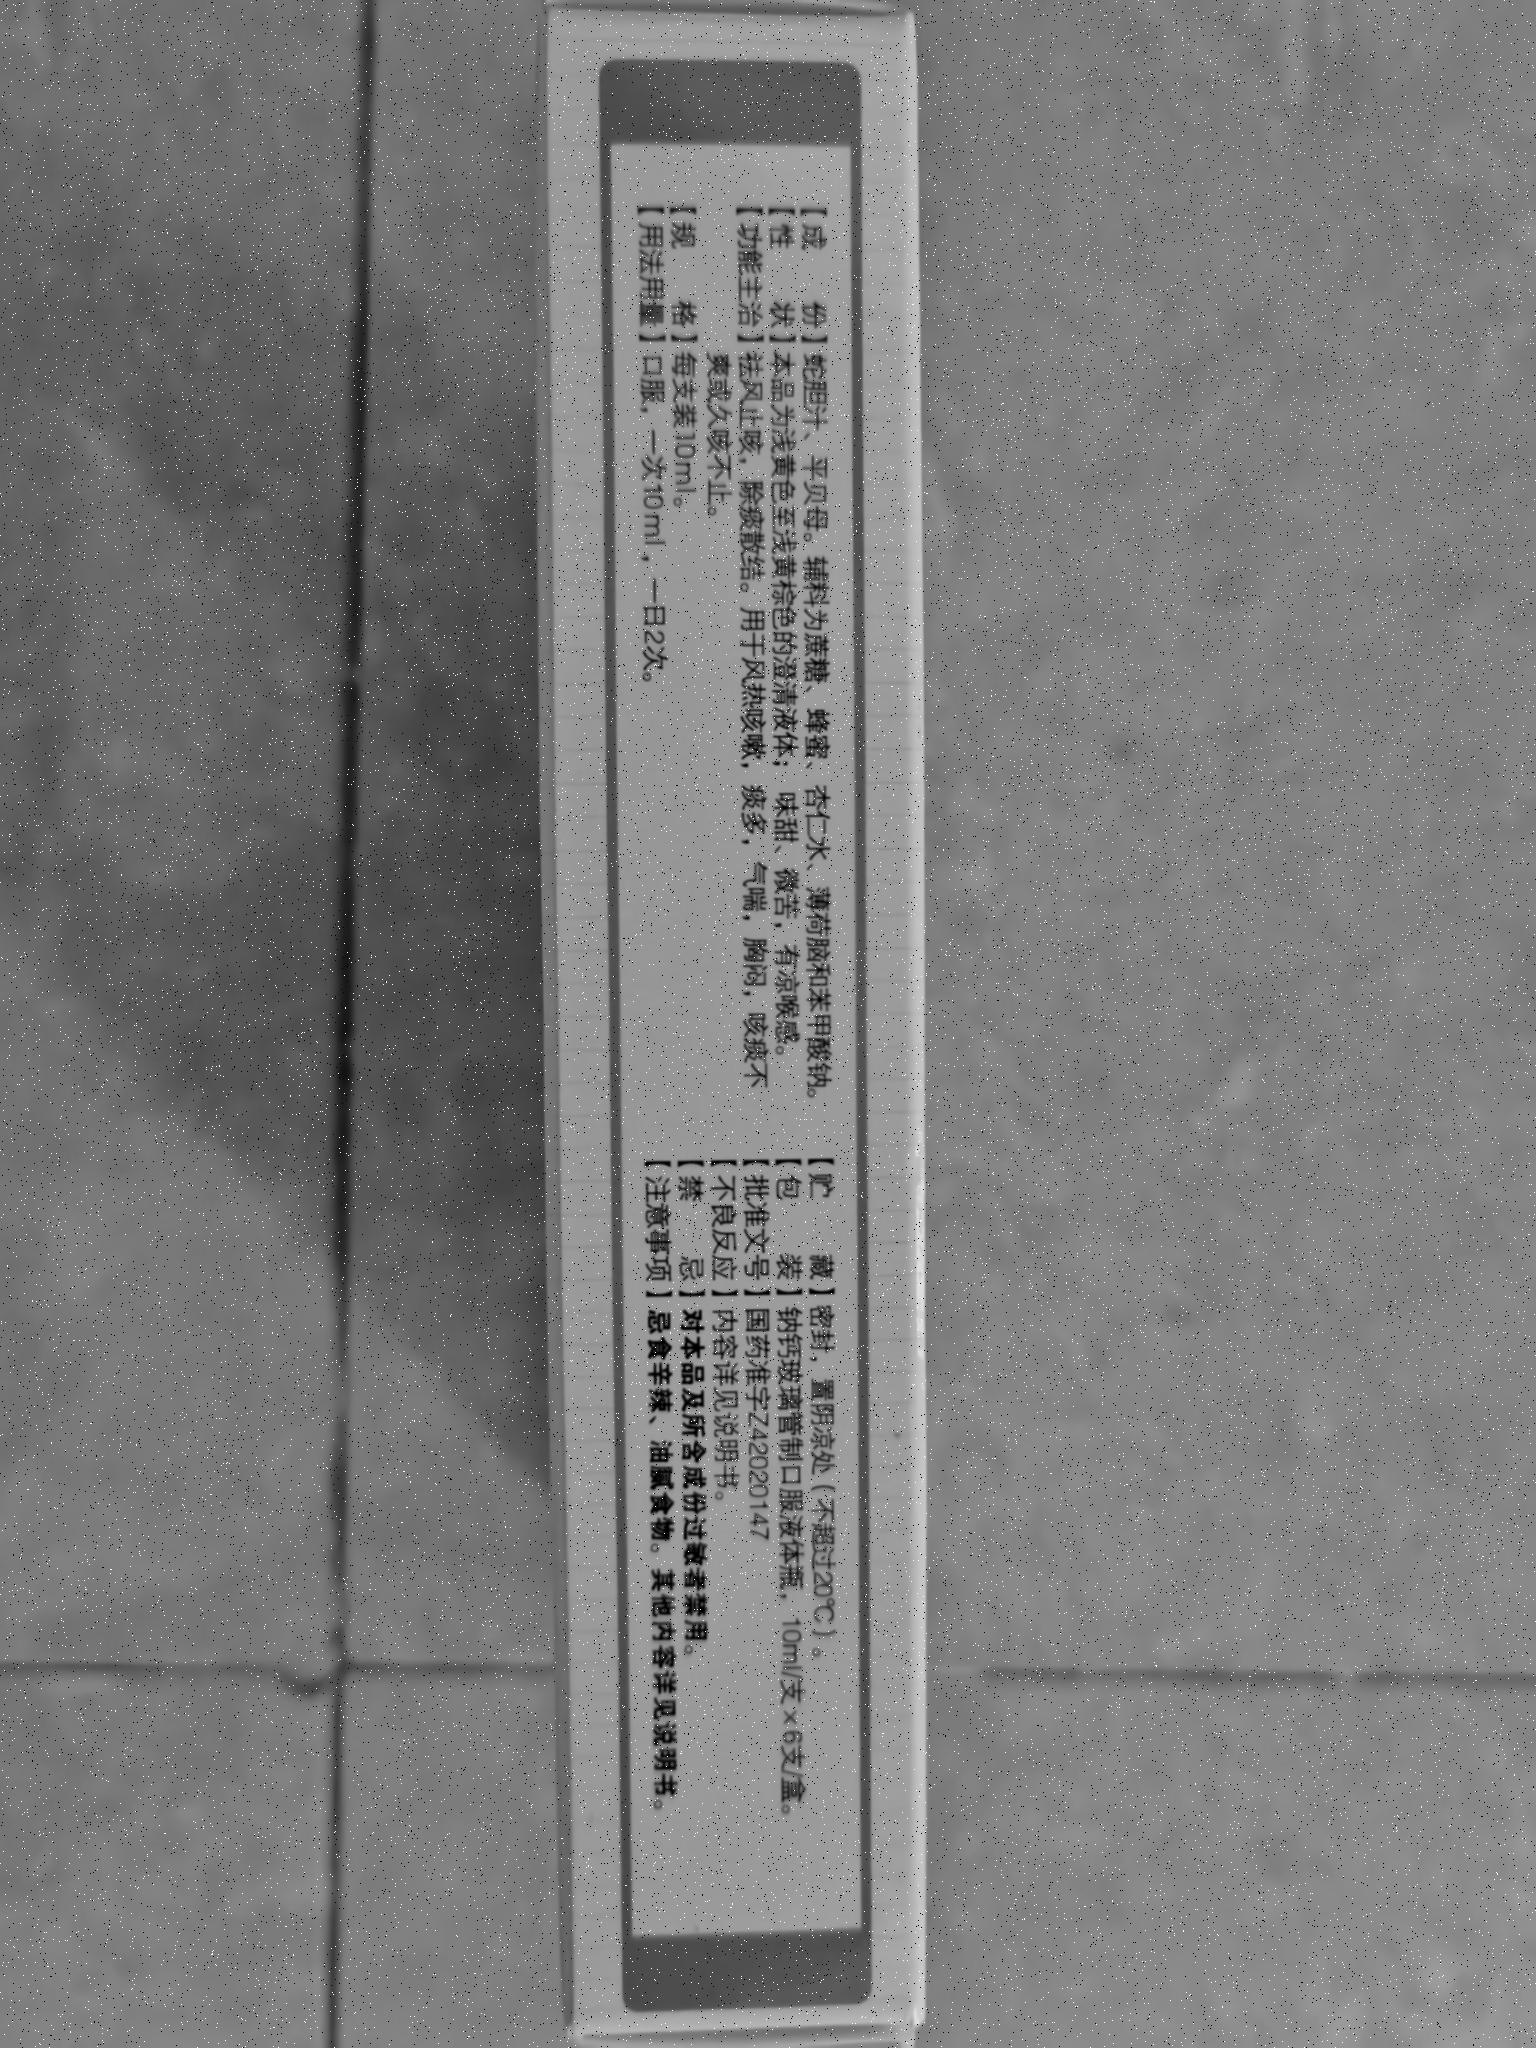Medicine5: (520, 5, 940, 2045)
